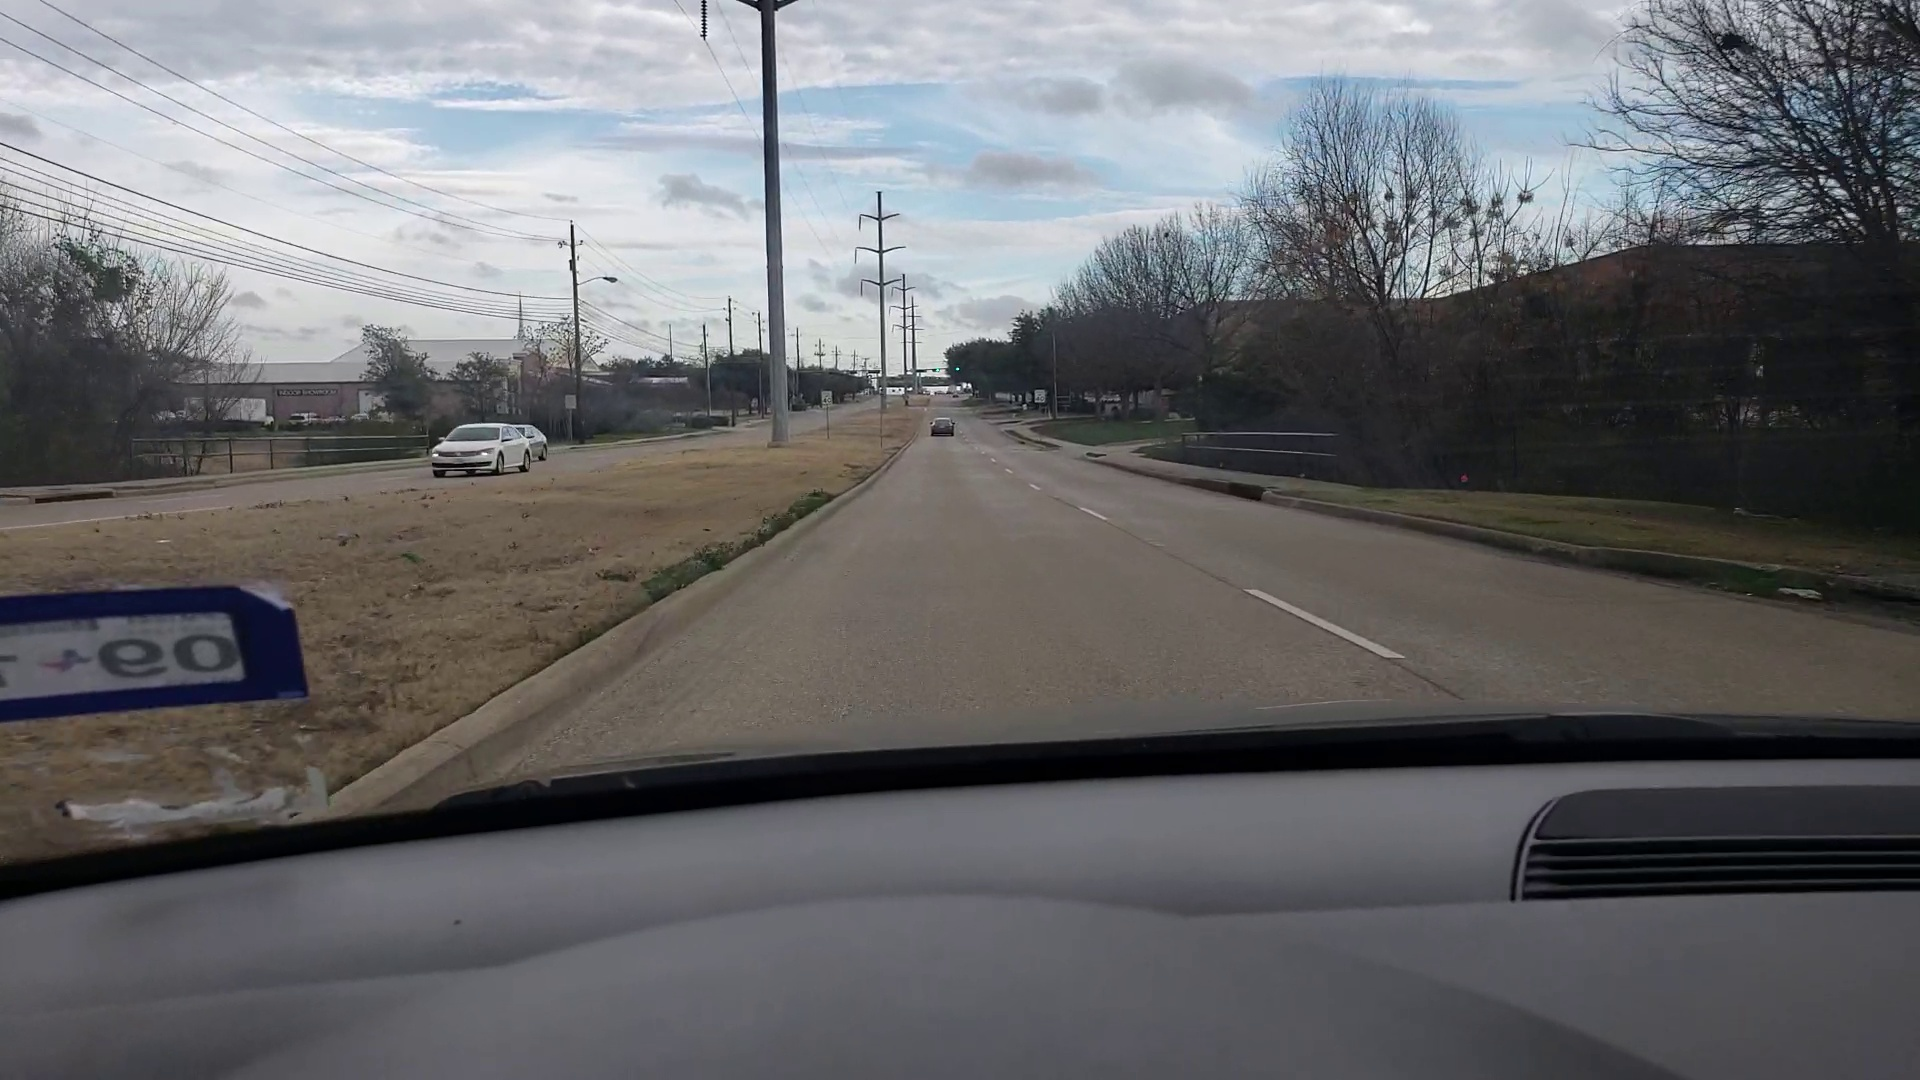car: (429, 423, 539, 473), (516, 419, 554, 462), (928, 419, 956, 439)
